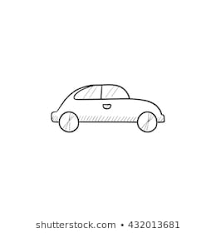car: (33, 65, 173, 143)
